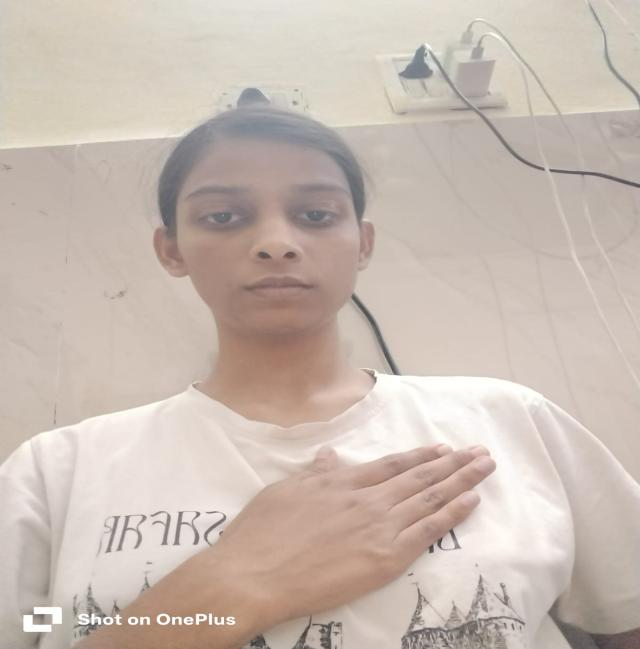Please: (150, 439, 516, 626)
